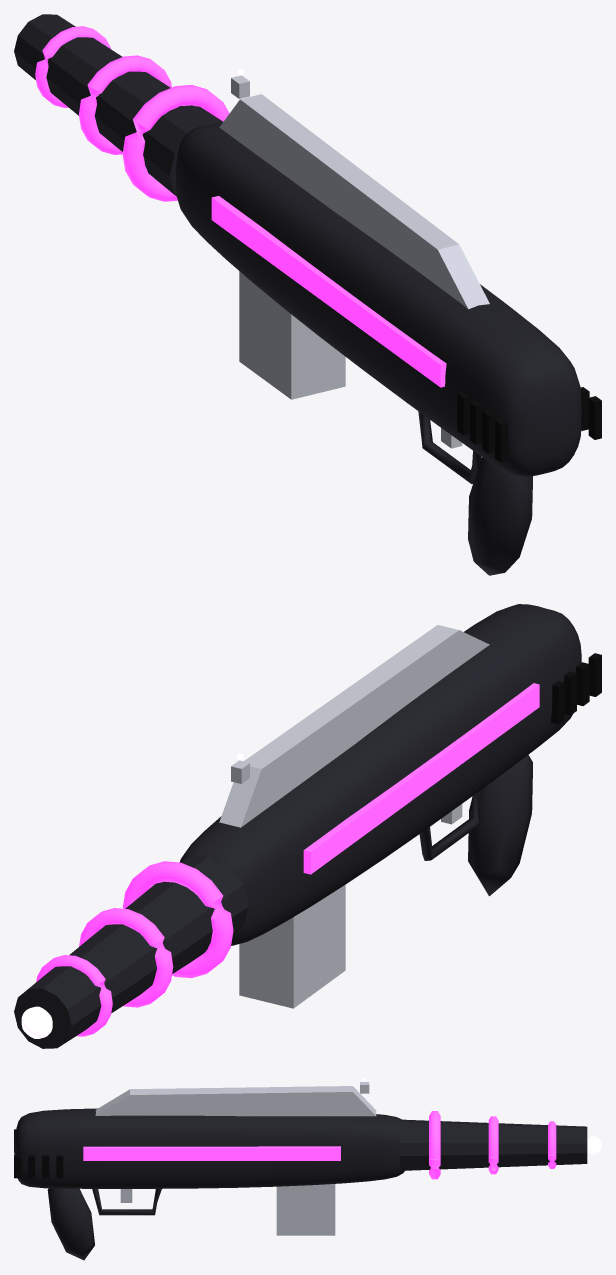
Rendered from laser_gun.gltf.
The picture shows the model from 3 angles, top to bottom: view 1: azimuth 30°, elevation 25°; view 2: azimuth 150°, elevation 25°; view 3: azimuth 270°, elevation 25°; orthographic projection. The views are drawn at different scales.
Parts seen in each view (by area): view 1: laser_gun; view 2: laser_gun; view 3: laser_gun.
Part boxes in pixels (x1,y1,x2,y2): laser_gun: (14,14,601,575); laser_gun: (14,604,601,1048); laser_gun: (14,1077,601,1260).
Bounding box in the file's own units: 0.0586 × 0.1723 × 0.5015.
